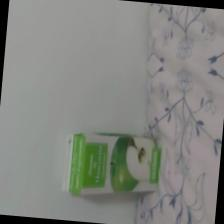Kertas: (63, 133, 161, 195)
